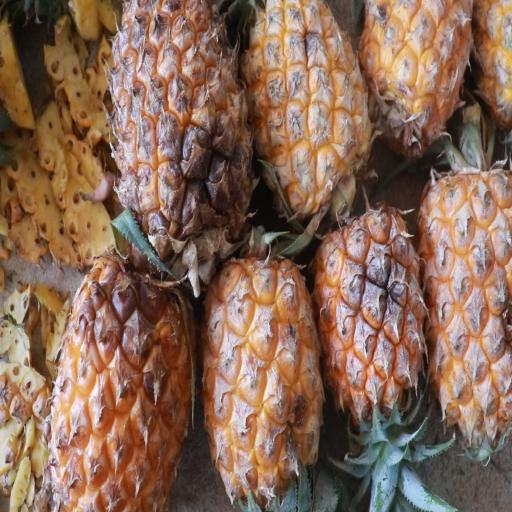Pineapple - v8 v1: (45, 217, 197, 512), (103, 0, 251, 259), (193, 237, 325, 511), (416, 128, 512, 447), (240, 6, 377, 206), (312, 185, 430, 414), (356, 0, 476, 128)
